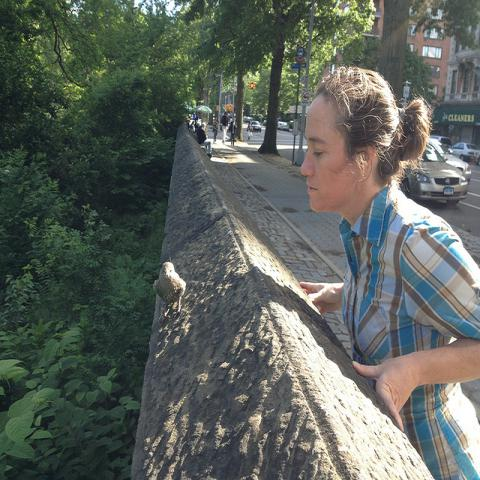car: (401, 142, 469, 204), (430, 138, 472, 186), (445, 141, 480, 162), (428, 135, 453, 152), (250, 120, 262, 132), (276, 122, 290, 131)
